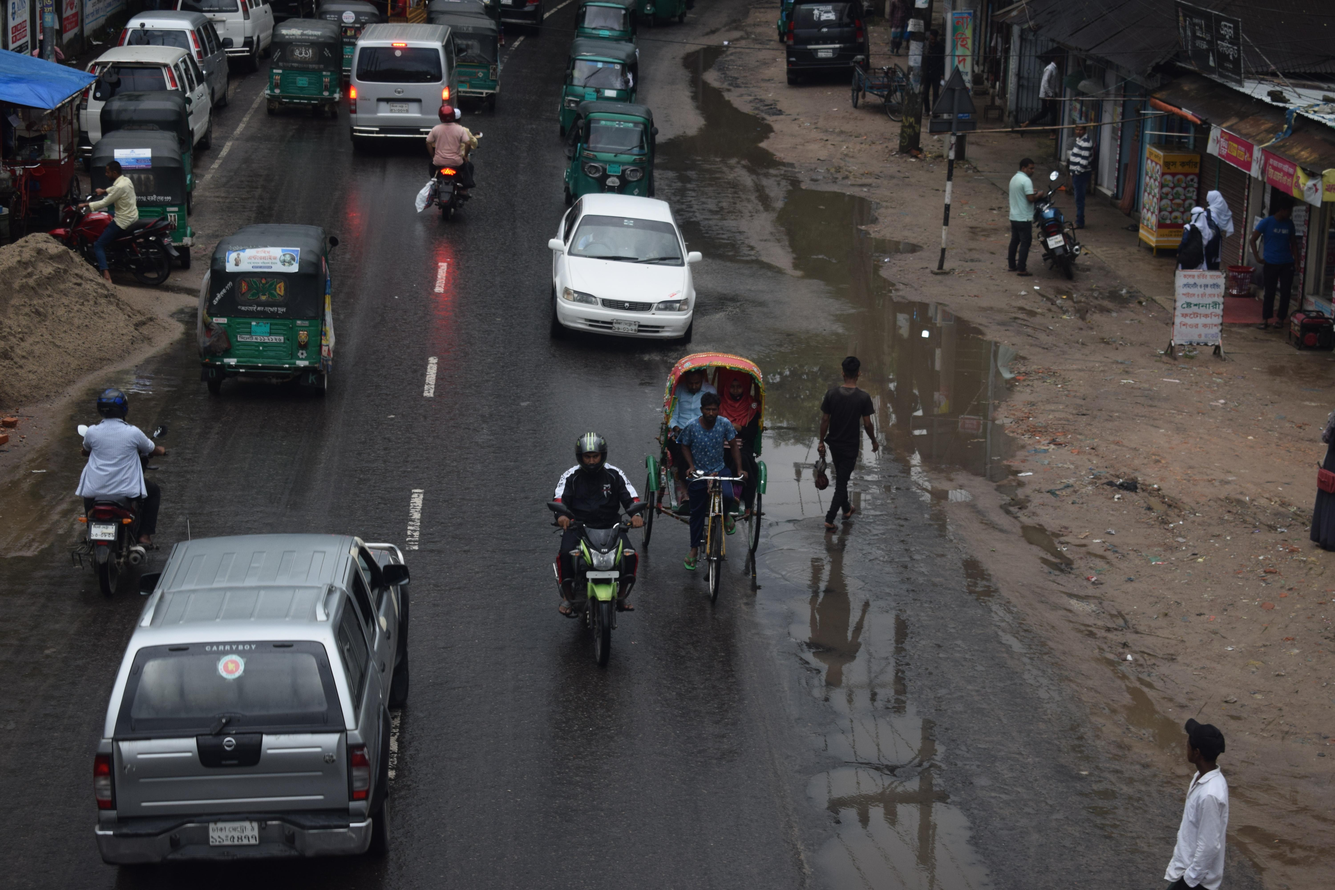Bike: (487, 406, 673, 683), (46, 353, 188, 634), (7, 164, 204, 309), (406, 81, 523, 245), (986, 142, 1104, 292)
Car: (92, 495, 469, 890), (617, 320, 801, 634), (523, 171, 740, 375), (54, 26, 232, 166), (330, 10, 495, 150), (754, 0, 893, 99)
